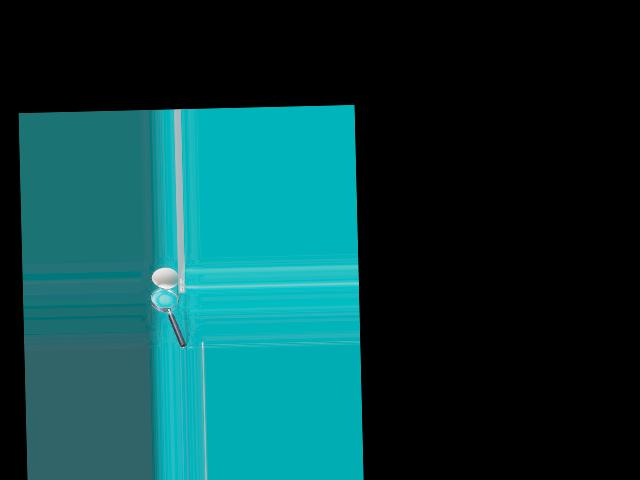egg: (151, 266, 179, 288)
